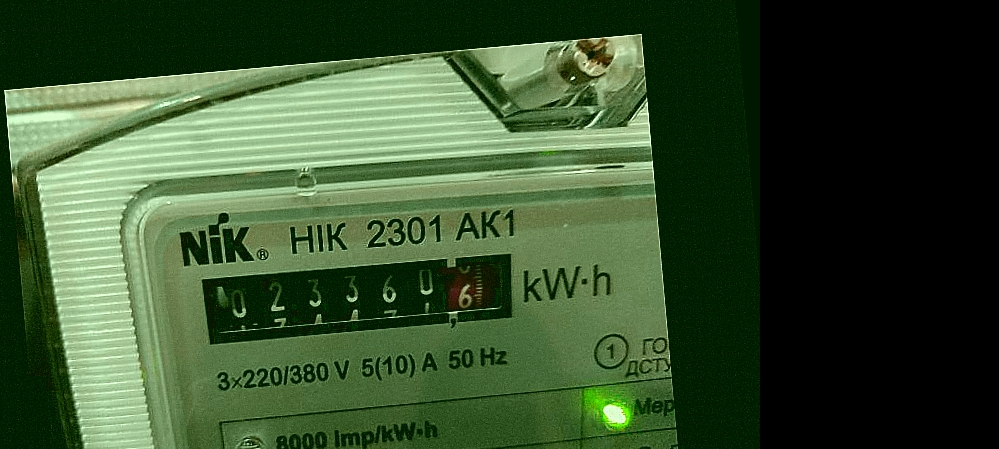0: (226, 285, 250, 320), (416, 264, 435, 297)
2: (263, 278, 289, 314)
3: (301, 275, 325, 309), (340, 271, 362, 303)
6: (376, 271, 399, 304), (452, 279, 476, 310)
screen: (182, 233, 531, 361)
